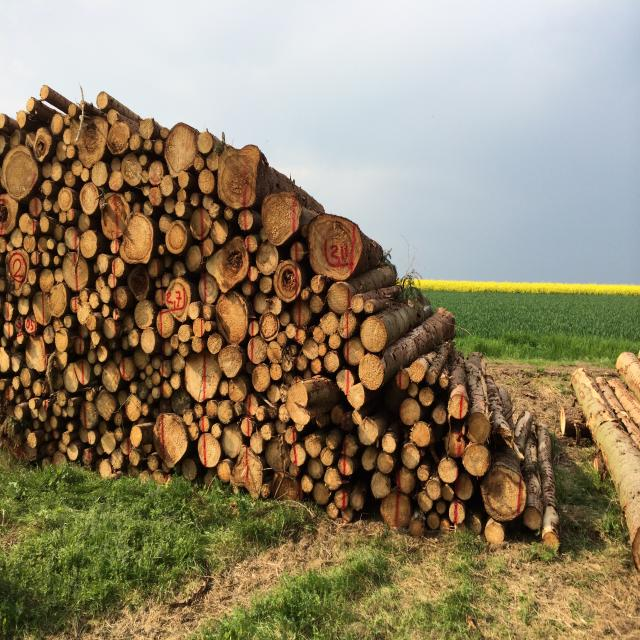wood-log: (308, 216, 363, 282), (284, 383, 339, 435), (215, 147, 257, 212), (480, 466, 524, 522), (3, 146, 42, 201), (261, 193, 300, 246), (154, 414, 191, 469), (213, 294, 250, 344), (120, 216, 157, 264), (165, 123, 198, 175), (78, 117, 106, 168), (85, 390, 116, 428), (33, 288, 66, 323), (380, 490, 410, 528), (361, 318, 388, 354), (359, 354, 386, 389), (291, 295, 317, 331), (462, 444, 490, 477), (466, 412, 493, 444), (220, 344, 246, 377), (258, 245, 283, 279), (109, 119, 130, 157), (328, 283, 352, 315), (166, 222, 189, 255), (50, 282, 70, 319), (0, 195, 18, 236), (199, 436, 221, 468), (356, 416, 381, 444), (81, 180, 102, 213), (343, 337, 365, 368), (124, 154, 144, 188), (133, 301, 156, 330), (453, 472, 475, 502), (26, 339, 46, 372), (396, 466, 419, 494), (402, 399, 424, 426), (411, 420, 432, 448), (80, 231, 101, 259), (102, 361, 120, 393), (184, 245, 202, 276), (450, 390, 468, 421), (372, 472, 393, 498), (402, 443, 423, 469), (65, 162, 87, 186), (523, 507, 544, 532), (346, 384, 366, 410), (439, 457, 460, 481), (251, 366, 270, 392), (214, 398, 233, 424), (341, 311, 359, 338), (484, 521, 505, 544), (447, 434, 466, 459), (411, 359, 429, 384), (360, 446, 378, 471), (99, 432, 118, 455), (93, 162, 111, 186), (138, 117, 154, 144), (313, 484, 332, 505), (39, 269, 56, 292), (321, 313, 338, 336), (27, 195, 44, 218), (418, 385, 436, 406), (199, 131, 216, 153), (200, 171, 216, 194), (449, 500, 465, 523), (379, 452, 396, 472), (310, 293, 325, 315), (109, 170, 124, 192), (382, 435, 398, 454), (432, 406, 447, 426), (416, 388, 428, 413), (0, 348, 10, 375), (0, 132, 10, 158), (52, 116, 65, 136), (0, 114, 9, 141), (15, 107, 26, 128), (0, 111, 8, 129)
